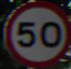Speed limit: (3, 1, 68, 62)
